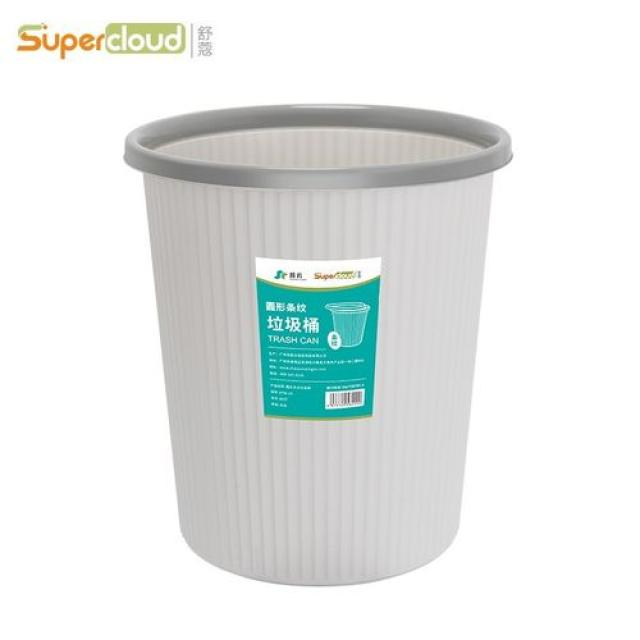dustbin: (116, 89, 518, 591)
